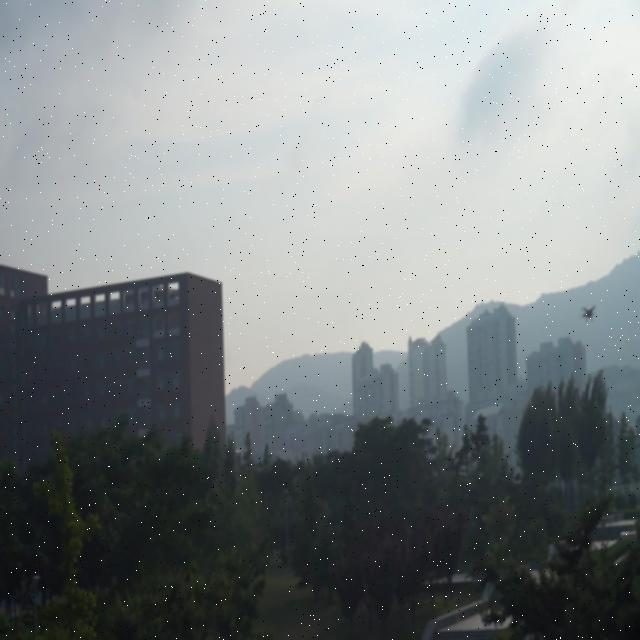UAV: (578, 306, 597, 322)
